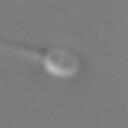normal: (1, 34, 45, 61)
